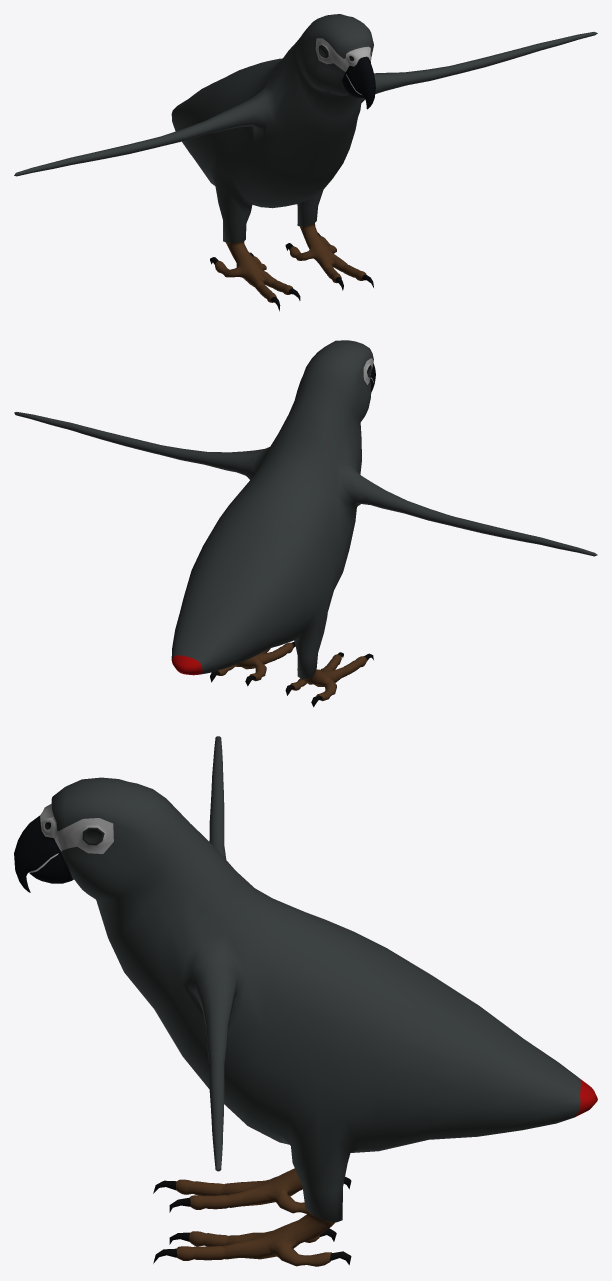
File: parrot_parrot.obj
The picture shows the model from 3 angles, top to bottom: view 1: azimuth 30°, elevation 25°; view 2: azimuth 150°, elevation 25°; view 3: azimuth 270°, elevation 25°; orthographic projection. The views are drawn at different scales.
Size of the model in its own units: 0.4089 by 0.1955 by 0.2322.
